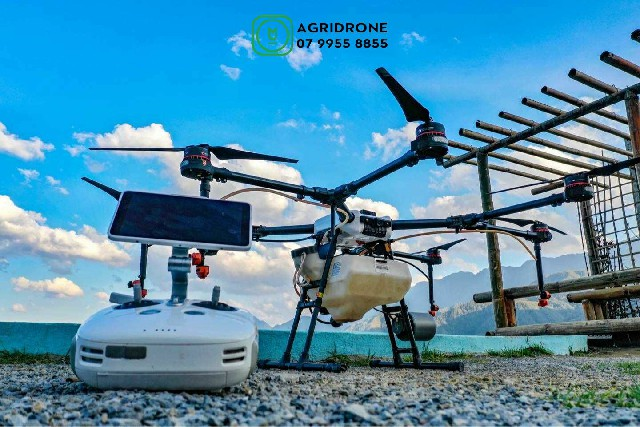maybay_khongnguoilai: (143, 119, 565, 340)
